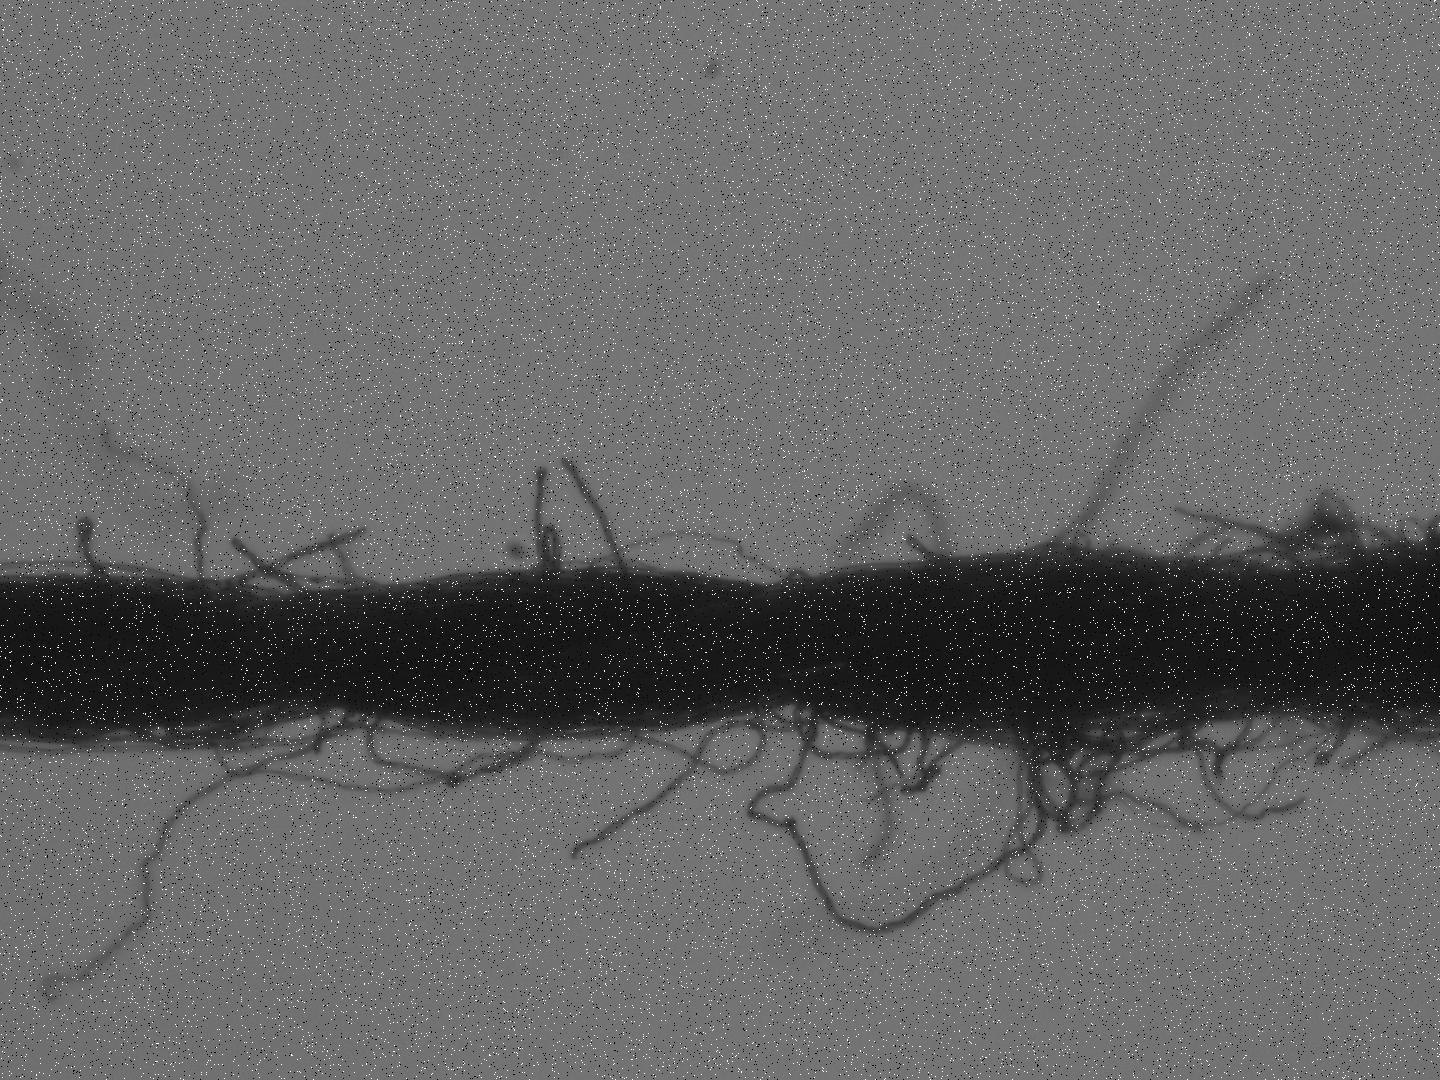loop_fiber: (748, 714, 1044, 938), (213, 708, 637, 798), (1209, 489, 1405, 574), (1010, 710, 1211, 782), (1052, 712, 1255, 775), (365, 719, 542, 787), (1028, 718, 1121, 836), (127, 709, 362, 750), (1176, 520, 1304, 581), (791, 707, 912, 763), (227, 572, 364, 602), (779, 565, 821, 592)
protruding_fiber: (40, 724, 349, 999), (1054, 276, 1279, 548), (215, 524, 369, 590), (559, 450, 636, 580)
